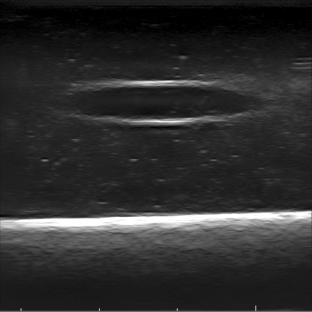vessel: (64, 78, 263, 125)
